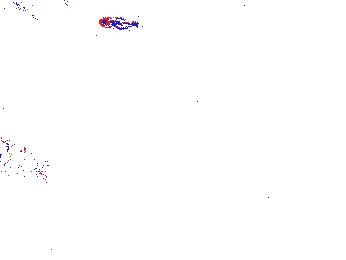X-ray fish: (161, 132, 227, 167), (45, 165, 98, 196), (1, 139, 31, 173)
red belly glassfish: (99, 12, 142, 34)
redtail glassfish: (2, 1, 38, 22), (39, 1, 78, 14)
